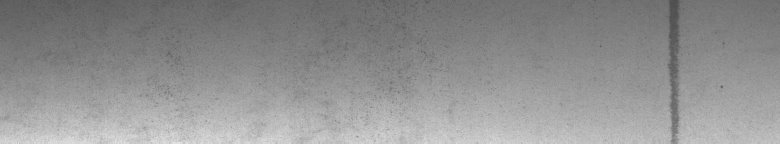hd: (664, 4, 723, 136)
